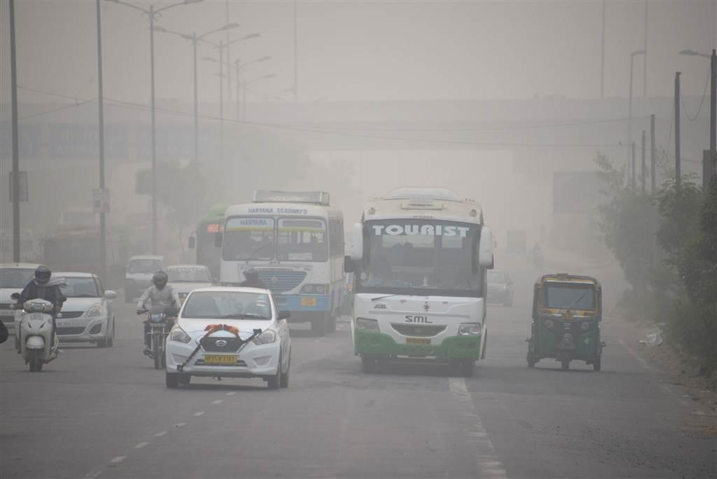backpack: (15, 268, 66, 355), (136, 269, 180, 324), (13, 264, 63, 311), (22, 303, 53, 358), (140, 277, 171, 308), (23, 297, 55, 327), (23, 288, 58, 313), (28, 283, 64, 305), (145, 290, 177, 314), (45, 283, 67, 309), (22, 297, 53, 312), (149, 286, 173, 305), (32, 290, 56, 309)
bench: (140, 312, 171, 364)
bicycle: (136, 275, 179, 358), (139, 307, 177, 368), (134, 295, 172, 347), (137, 310, 161, 361), (144, 320, 165, 367), (0, 298, 21, 345), (101, 289, 118, 343)
boat: (525, 271, 604, 370), (135, 266, 190, 323), (140, 260, 203, 304), (127, 259, 173, 308)
bus: (348, 184, 493, 377), (169, 227, 309, 355), (220, 200, 348, 334), (401, 184, 506, 331), (77, 197, 239, 292), (158, 256, 262, 376), (366, 187, 487, 287), (46, 219, 185, 303), (15, 214, 135, 310), (193, 204, 301, 309), (162, 213, 247, 341), (2, 270, 120, 341), (226, 249, 328, 331), (132, 222, 234, 299), (525, 271, 604, 370), (276, 198, 344, 304), (196, 195, 276, 278), (143, 247, 216, 334), (46, 254, 121, 332), (158, 201, 226, 287), (45, 228, 140, 289), (35, 213, 126, 275), (223, 206, 299, 279), (446, 215, 498, 315), (7, 262, 103, 314), (125, 240, 201, 299), (176, 224, 229, 306), (325, 211, 359, 320), (2, 263, 56, 330), (205, 207, 252, 283), (193, 207, 235, 283), (135, 266, 190, 323), (222, 211, 263, 284), (340, 217, 369, 319), (140, 260, 203, 304), (164, 263, 214, 306), (124, 253, 166, 300), (184, 210, 215, 273), (189, 240, 238, 279), (0, 264, 39, 307), (222, 224, 247, 285), (197, 223, 222, 283), (488, 270, 515, 306), (182, 224, 199, 264)
car: (162, 284, 385, 408), (347, 186, 492, 376), (178, 238, 319, 363), (208, 209, 343, 331), (165, 286, 292, 392), (0, 273, 138, 367), (93, 287, 224, 376), (191, 281, 298, 356), (159, 282, 254, 365), (525, 272, 604, 369), (24, 246, 137, 313), (75, 274, 173, 351), (28, 268, 119, 346), (6, 267, 82, 359), (45, 228, 140, 289), (148, 279, 209, 373), (241, 274, 331, 334), (102, 256, 205, 308), (142, 269, 237, 323), (7, 262, 103, 314), (97, 262, 162, 333), (52, 255, 118, 324), (125, 240, 201, 299), (81, 253, 172, 302), (133, 275, 191, 349), (160, 266, 212, 345), (10, 291, 60, 373), (129, 295, 180, 369), (2, 263, 56, 330), (179, 218, 224, 295), (530, 322, 603, 369), (70, 278, 118, 348), (52, 197, 136, 236), (137, 265, 200, 311), (47, 201, 107, 248), (140, 286, 201, 331), (179, 285, 257, 319), (129, 261, 175, 318), (13, 285, 54, 342), (14, 266, 67, 309), (164, 262, 214, 306), (6, 287, 40, 351), (0, 274, 30, 345), (124, 256, 168, 299), (0, 264, 36, 314), (140, 257, 188, 294), (1, 294, 50, 330), (151, 281, 202, 314), (167, 285, 205, 329), (171, 277, 215, 313), (163, 272, 195, 321), (138, 275, 180, 309), (53, 205, 103, 233), (1, 260, 44, 292), (55, 269, 103, 297), (125, 252, 165, 281), (140, 291, 181, 318), (166, 263, 213, 286), (486, 270, 514, 306), (101, 289, 120, 341), (4, 302, 25, 349), (0, 293, 19, 344), (476, 222, 495, 271), (127, 266, 155, 299), (0, 272, 26, 306), (9, 275, 32, 308), (137, 266, 164, 294), (134, 274, 158, 303), (171, 288, 205, 307), (637, 326, 664, 347), (183, 263, 214, 280), (173, 291, 194, 316), (132, 254, 164, 269), (495, 282, 514, 307), (500, 274, 515, 305), (23, 297, 53, 312), (5, 285, 25, 305), (170, 289, 188, 308), (198, 264, 215, 283), (7, 292, 23, 309), (0, 318, 10, 344)
chair: (136, 302, 176, 368)
fire hydrant: (14, 283, 63, 367), (140, 308, 178, 368)
handbag: (137, 273, 178, 344), (138, 278, 175, 315), (143, 291, 178, 319), (147, 303, 174, 323), (22, 297, 53, 312), (134, 294, 150, 317), (145, 310, 168, 323)
horse: (12, 266, 64, 362)
motorcycle: (3, 267, 119, 344), (6, 280, 86, 368), (527, 280, 602, 372), (121, 277, 211, 351), (52, 275, 115, 351), (2, 260, 52, 354), (143, 289, 198, 369), (131, 268, 197, 324), (136, 275, 179, 358), (16, 296, 63, 371), (13, 285, 54, 342), (139, 308, 178, 367), (10, 298, 46, 361), (12, 269, 59, 317), (0, 274, 30, 347), (134, 295, 172, 347), (136, 277, 185, 315), (140, 318, 164, 370), (38, 317, 61, 371), (0, 298, 21, 345), (0, 313, 12, 345)
parking meter: (13, 287, 61, 373), (489, 270, 515, 306), (476, 222, 495, 271), (0, 317, 9, 344)
person: (221, 202, 343, 337), (144, 284, 254, 381), (127, 265, 201, 370), (529, 272, 604, 369), (7, 271, 94, 354), (47, 269, 117, 344), (13, 285, 63, 370), (0, 262, 48, 350), (144, 267, 207, 334), (13, 263, 67, 340), (237, 230, 285, 312), (123, 256, 171, 337), (135, 269, 181, 346), (137, 298, 179, 366), (375, 235, 422, 289), (140, 263, 201, 304), (10, 298, 46, 361), (32, 288, 64, 355), (167, 264, 214, 309), (0, 263, 44, 311), (132, 263, 175, 312), (11, 264, 61, 306), (124, 253, 166, 300), (163, 272, 195, 321), (389, 243, 428, 280), (150, 254, 181, 299), (406, 241, 437, 284), (379, 245, 414, 281), (141, 282, 178, 316), (344, 242, 365, 298), (176, 288, 219, 315), (533, 320, 558, 364), (371, 246, 399, 283), (239, 243, 263, 285), (135, 273, 160, 313), (242, 282, 269, 316), (394, 239, 425, 267), (387, 239, 414, 268), (556, 328, 576, 367), (240, 232, 267, 260), (141, 270, 169, 297), (52, 278, 71, 317), (550, 325, 569, 363), (251, 234, 277, 261), (24, 265, 51, 291), (543, 319, 561, 356), (574, 321, 591, 358), (202, 323, 240, 339), (390, 233, 415, 257), (231, 298, 261, 316), (195, 296, 221, 316), (558, 313, 576, 341), (375, 248, 393, 276), (549, 320, 565, 350), (557, 324, 575, 350), (240, 264, 261, 286), (212, 295, 234, 315), (238, 234, 255, 258), (400, 239, 416, 263), (243, 299, 265, 316), (545, 318, 562, 340), (251, 297, 269, 317), (245, 237, 260, 261), (249, 235, 266, 256), (150, 270, 168, 289), (55, 283, 69, 307), (565, 321, 578, 345), (571, 319, 582, 347), (200, 324, 218, 341), (550, 316, 565, 336), (556, 320, 570, 341), (209, 296, 225, 313), (268, 247, 282, 264)
suitcase: (15, 291, 63, 371), (145, 310, 168, 323)
traffic light: (476, 222, 495, 271), (94, 188, 110, 214), (187, 225, 198, 254)
train: (351, 187, 493, 370), (525, 271, 604, 370), (191, 208, 232, 284)
truck: (347, 186, 492, 376), (169, 227, 309, 355), (216, 203, 346, 331), (162, 285, 293, 392), (46, 219, 185, 303), (15, 214, 135, 310), (524, 273, 604, 370), (75, 265, 180, 335), (29, 275, 116, 346), (7, 265, 81, 348), (46, 254, 121, 332), (45, 228, 140, 289), (35, 213, 126, 275), (7, 262, 103, 314), (125, 240, 201, 299), (176, 224, 229, 306), (160, 266, 212, 345), (10, 291, 60, 373), (2, 263, 56, 330), (189, 209, 231, 284), (135, 266, 190, 323), (140, 260, 203, 304), (43, 231, 110, 271), (1, 265, 33, 345), (164, 263, 215, 307), (11, 264, 61, 306), (123, 253, 166, 300), (0, 265, 37, 306), (133, 266, 171, 304), (166, 263, 214, 286), (0, 265, 21, 317), (489, 270, 515, 306), (182, 224, 199, 264)
